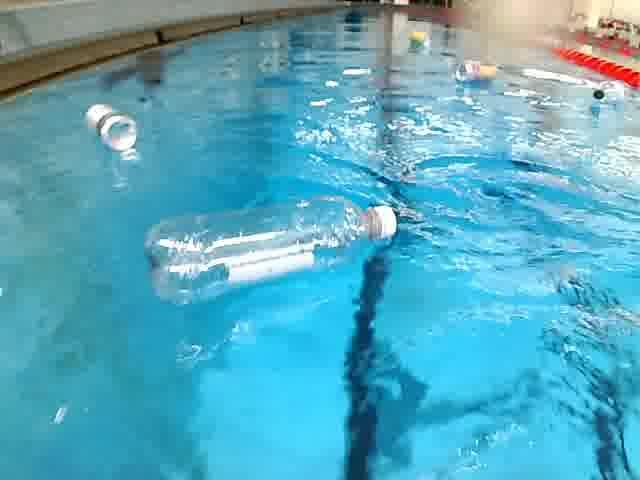Bottle: (56, 186, 450, 298)
Can: (54, 84, 144, 161)
